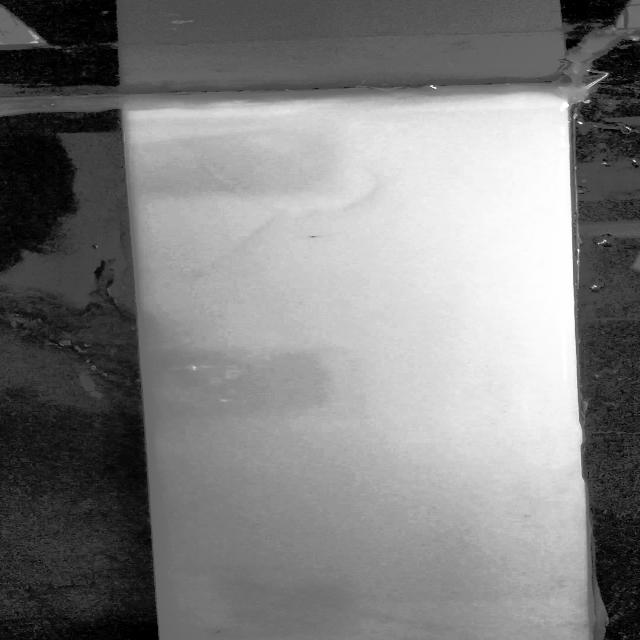shrimp: (198, 627, 237, 638), (300, 230, 332, 240)
